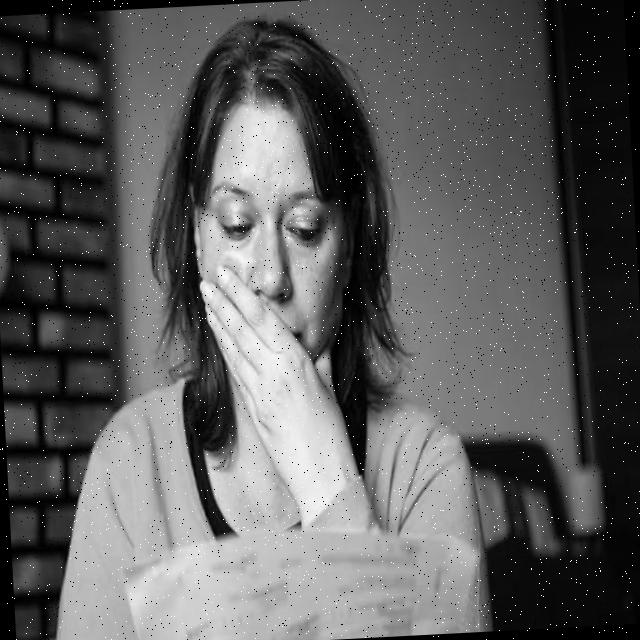Fear: (193, 89, 340, 368)
